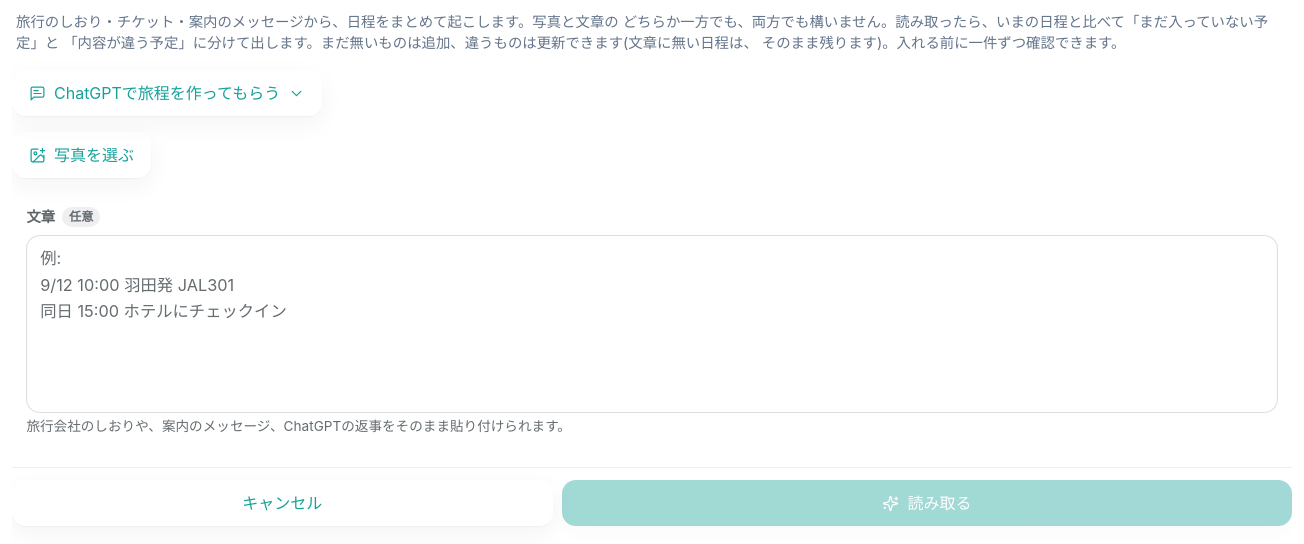
Scenario: 写真・文章から日程を読み取る画面 › いまの日程との違いを分けて出す › 地域つきに直した場所は、元の計画文を貼り直しても書き戻さない
The width and height of the screenshot is (1304, 544).
Type "9/12 10:00 羽田発" into the text box with placeholder "例: 9/12 10:00 羽田発 JAL301 同日 15:00 ホテルにチェックイン". click: (652,324)
box: [26,234,1278,413]
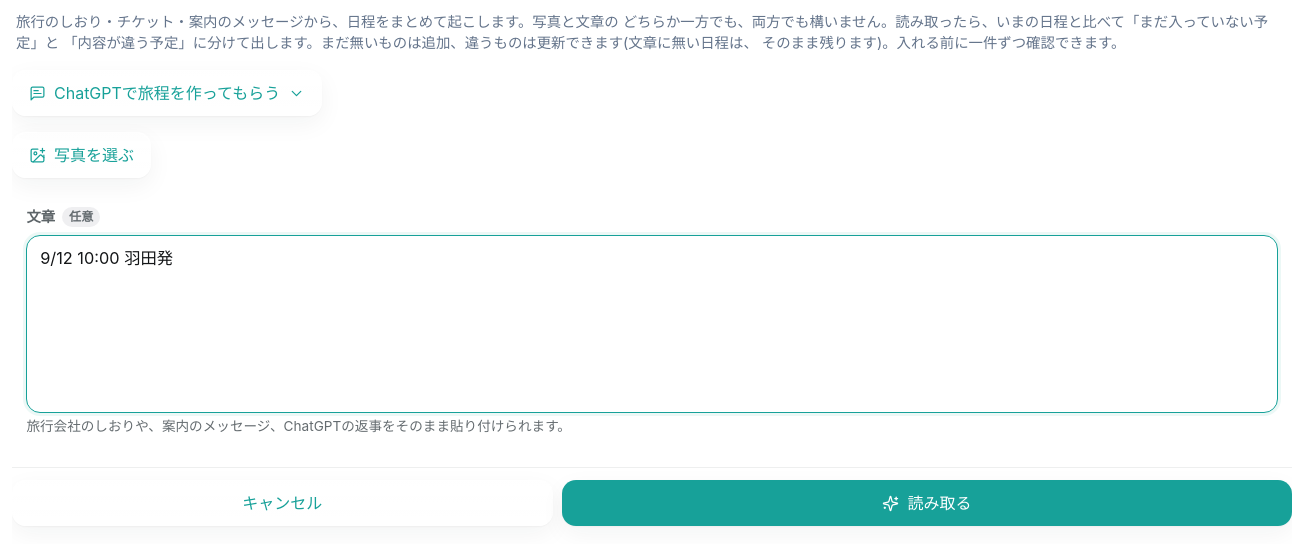
Click the button "読み取る". click: (927,502)
box: [562,480,1292,526]
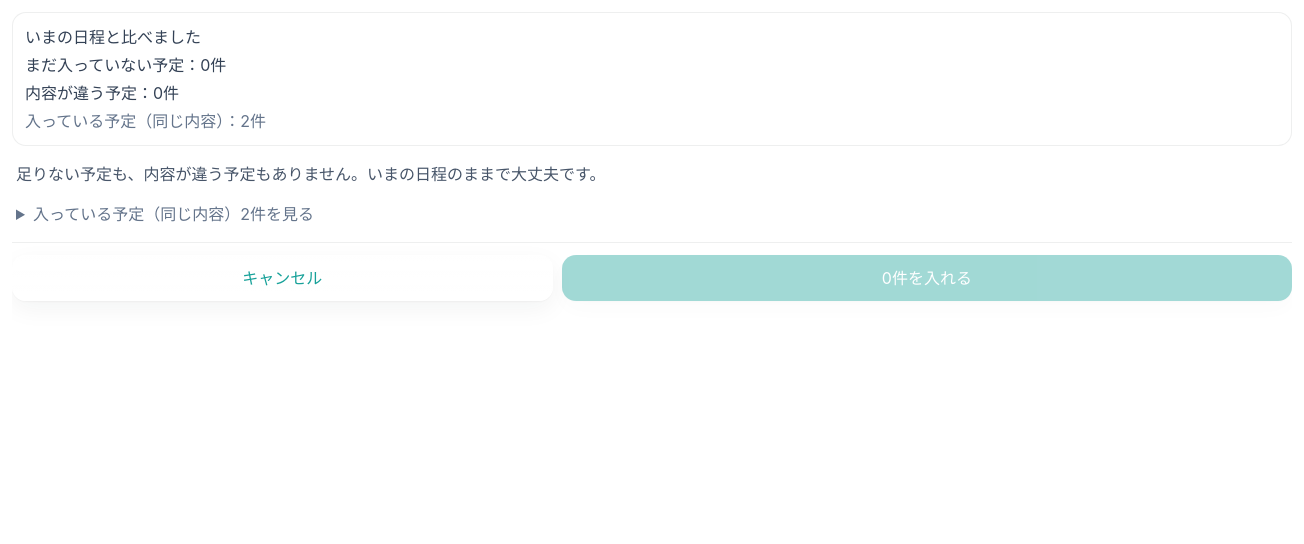
Expected: the text "内容が違う予定：0件" is shown, [25,83,179,103]
Expected: the text "入っている予定（同じ内容）：2件" is shown, [25,111,266,131]
